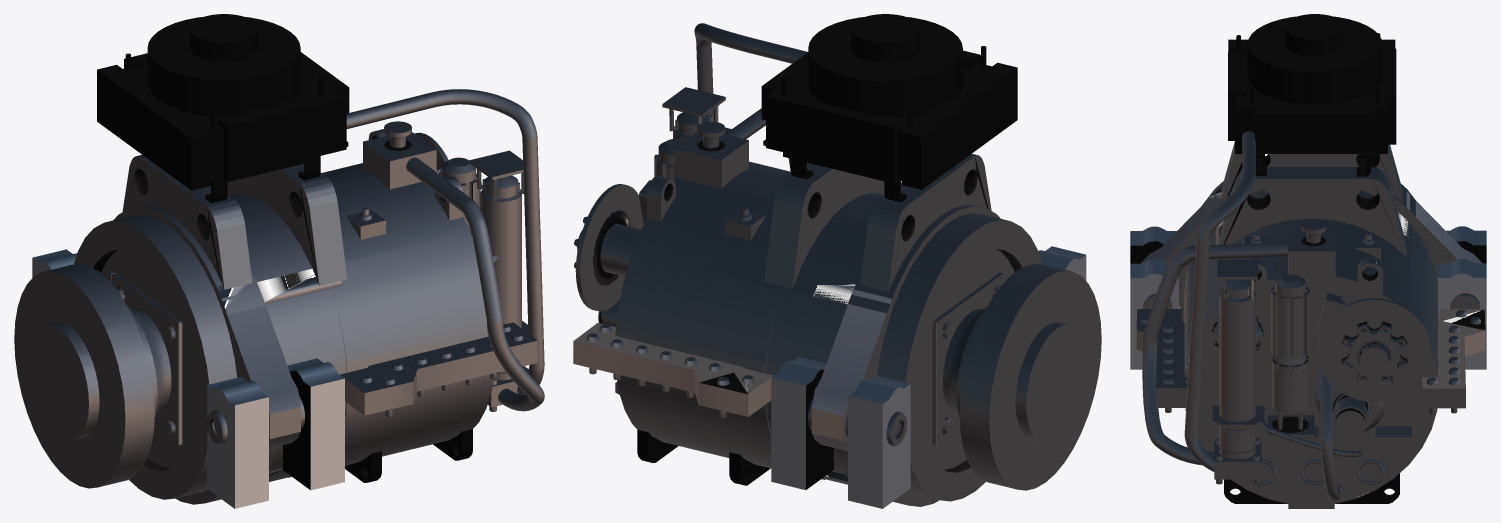
Rendered from fadongji.glb.
The picture shows the model from 3 angles, left to right: view 1: azimuth 30°, elevation 25°; view 2: azimuth 150°, elevation 25°; view 3: azimuth 270°, elevation 25°; orthographic projection. The views are drawn at different scales.
Parts seen in each view (by area): view 1: 发动机; view 2: 发动机; view 3: 发动机.
Boxes of the visible parts, x1=… form: 发动机: x1=14, y1=14, x2=544, y2=508; 发动机: x1=573, y1=14, x2=1101, y2=508; 发动机: x1=1130, y1=14, x2=1486, y2=508.
Bounding box in the file's own units: 10.3 × 10.31 × 8.38.
Materials: 44 (42 with a texture image).
